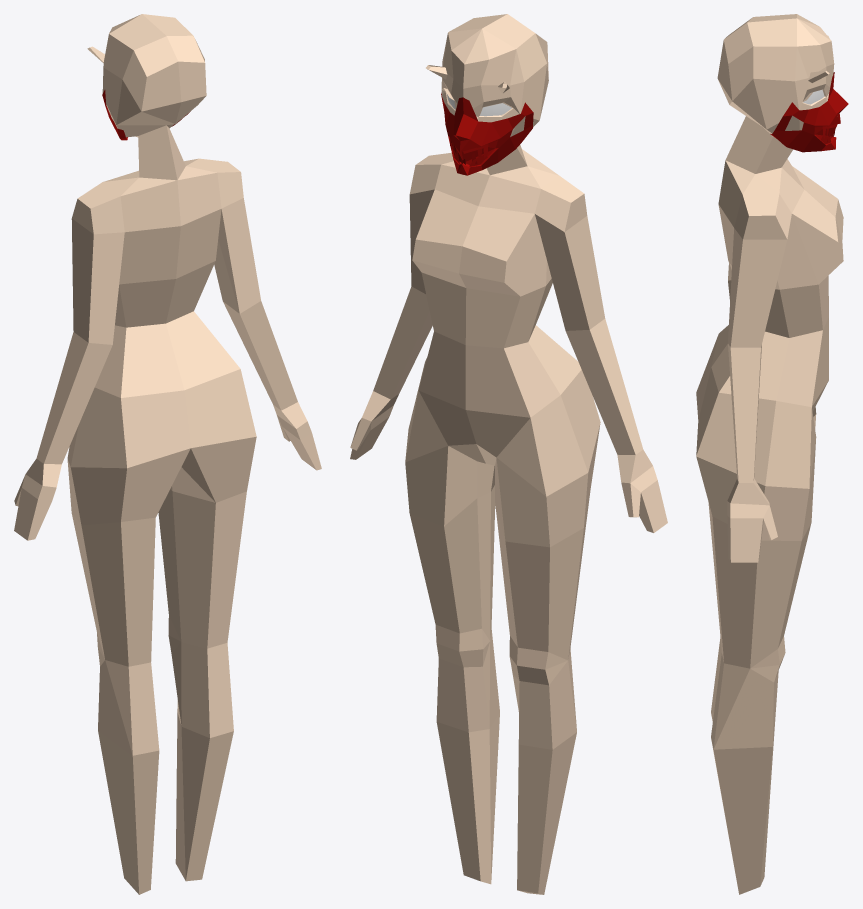
The model's file is F_BasemeshLowpoly.fbx.
The picture shows the model from 3 angles, left to right: view 1: azimuth 30°, elevation 25°; view 2: azimuth 150°, elevation 25°; view 3: azimuth 270°, elevation 25°; orthographic projection. The views are drawn at different scales.
Parts seen in each view (by area): view 1: body; view 2: body; view 3: body.
Boxes of the visible parts, x1,y1,x2,y2 form: body: [14, 14, 321, 894]; body: [350, 14, 667, 894]; body: [696, 14, 848, 894].
Size of the model in its own units: 125 by 346 by 55.62.
